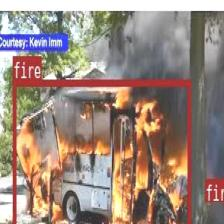fire: (12, 78, 190, 224), (204, 178, 214, 201)
